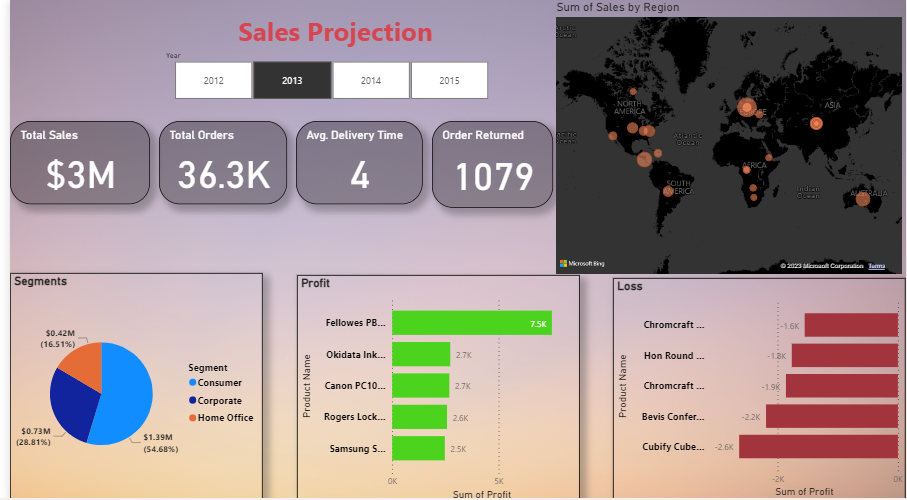

The page's visual inventory and layout, read from the dashboard file:
{"tool":"powerbi","page":{"name":"Page 1","canvas":[1280,720],"ordinal":0},"visuals":[{"type":"card","title":"Total Sales","fields":{"Values":["Sum(Orders.Sales)"]},"box":[0,172.9,199.8,119.1],"z":0},{"type":"card","title":"Total Orders","fields":{"Values":["Sum(Orders.Quantity)"]},"box":[213.3,173,183.1,119.3],"z":1},{"type":"card","title":"Avg. Delivery Time","fields":{"Values":["Avg(Orders.Delivery days)"]},"box":[408.2,173,181.4,119.3],"z":2},{"type":"slicer","fields":{"Values":["Orders.Year"]},"box":[210,67.2,497.2,80.6],"z":3},{"type":"card","title":"Order Returned","fields":{"Values":["Sum(Returns.Return Orders)"]},"box":[603,173,173,124.3],"z":4},{"type":"map","fields":{"Size":["Sum(Orders.Sales)"],"Category":["Orders.Region"]},"box":[776.1,0,503.9,396.4],"z":5},{"type":"clusteredBarChart","title":"Profit","fields":{"Y":["Sum(Orders.Profit)"],"Category":["Orders.Product Name"]},"box":[409.6,392.6,403.9,324.6],"z":6},{"type":"clusteredBarChart","title":"Loss","fields":{"Y":["Sum(Orders.Profit)"],"Category":["Orders.Product Name"]},"box":[861.7,396.9,418.1,317.5],"z":7},{"type":"pieChart","title":"Segments","fields":{"Category":["Orders.Segment"],"Y":["Sum(Orders.Sales)"]},"box":[0,389.7,361.2,324.2],"z":8},{"type":"textbox","box":[304.3,12.9,321.4,64.3],"z":9}]}

Visuals, with their boxes in screenshot pixels (x1, y1, x2, y2), scaled from the page's 1280x720 canvas onto the 907x500 screenshot:
"Total Sales" card: 0, 120, 142, 203
"Total Orders" card: 151, 120, 281, 203
"Avg. Delivery Time" card: 289, 120, 418, 203
slicer - Orders.Year: 149, 47, 501, 103
"Order Returned" card: 427, 120, 550, 206
map - Sum(Orders.Sales) x Orders.Region: 550, 0, 906, 275
"Profit" clusteredBarChart: 290, 273, 576, 498
"Loss" clusteredBarChart: 611, 276, 906, 496
"Segments" pieChart: 0, 271, 256, 496
textbox: 216, 9, 443, 54
